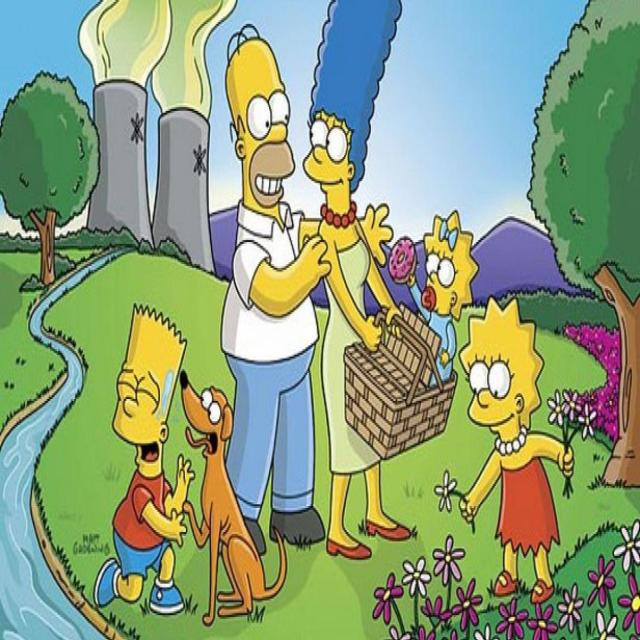Bart Simpson: (109, 301, 189, 484)
Homer Simpson: (223, 21, 298, 218)
Lisa Simpson: (457, 292, 547, 462)
Maggie Simpson: (419, 206, 482, 324)
Marge Simpson: (301, 0, 405, 231)
